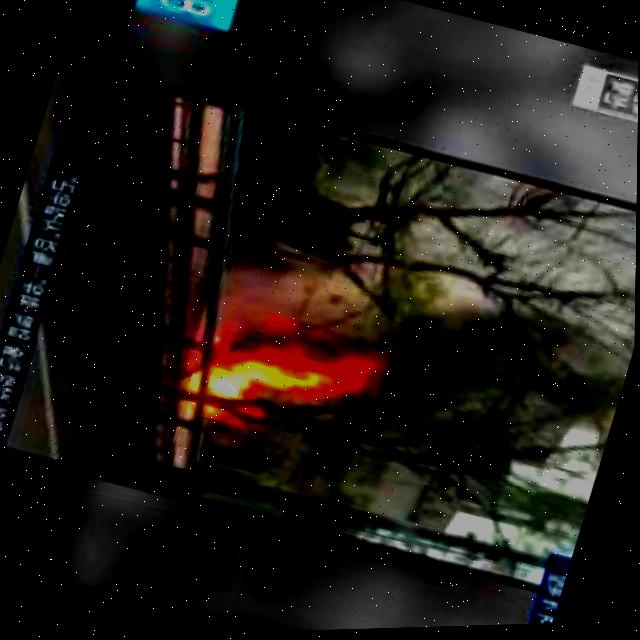Fire: (173, 300, 399, 466)
